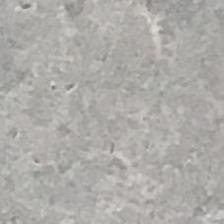Non_Crack: (22, 31, 224, 214)
